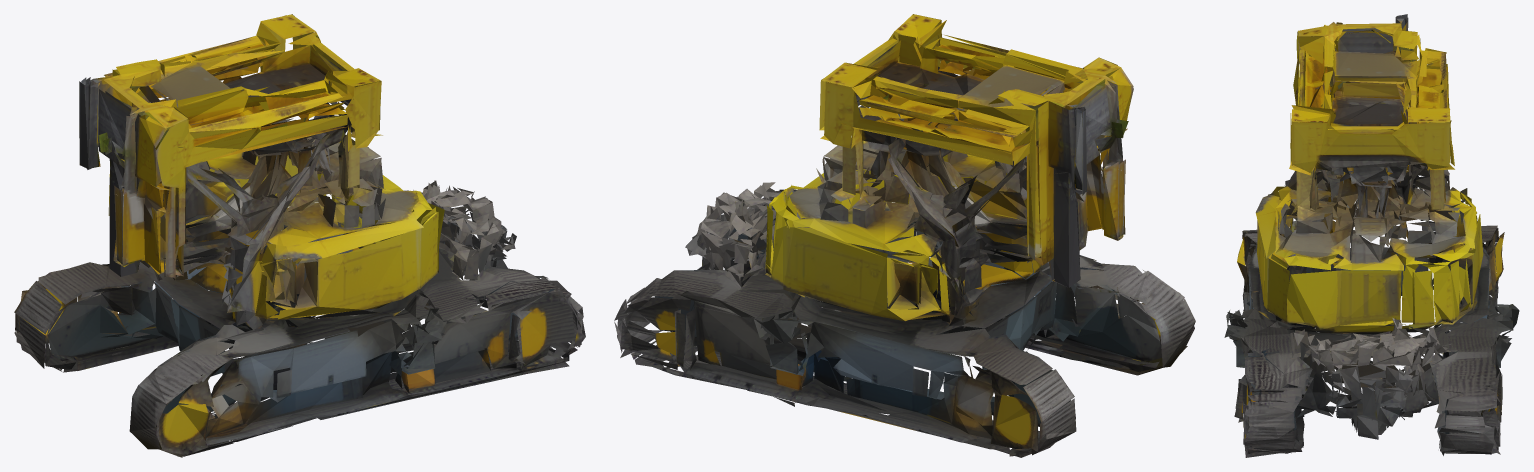
Rendered from driller_yard_t2.fbx.
3 views of the same model, side by side, from view 1: azimuth 30°, elevation 25°; view 2: azimuth 150°, elevation 25°; view 3: azimuth 270°, elevation 25° (orthographic). The views are drawn at different scales.
Parts seen in each view (by area): view 1: driller_yard_t2; view 2: driller_yard_t2; view 3: driller_yard_t2.
Part boxes in pixels (x1,y1,x2,y2): driller_yard_t2: (14, 14, 585, 457); driller_yard_t2: (614, 14, 1195, 457); driller_yard_t2: (1224, 14, 1519, 457).
Size of the model in its own units: 4.61 by 3.26 by 3.1.
Materials: 1 (1 with a texture image).
